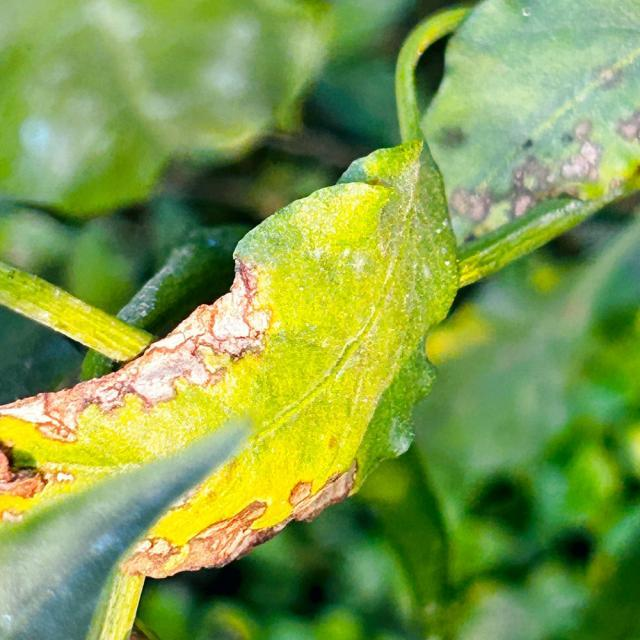Bercak Daun Serkospora: (1, 135, 464, 570)
